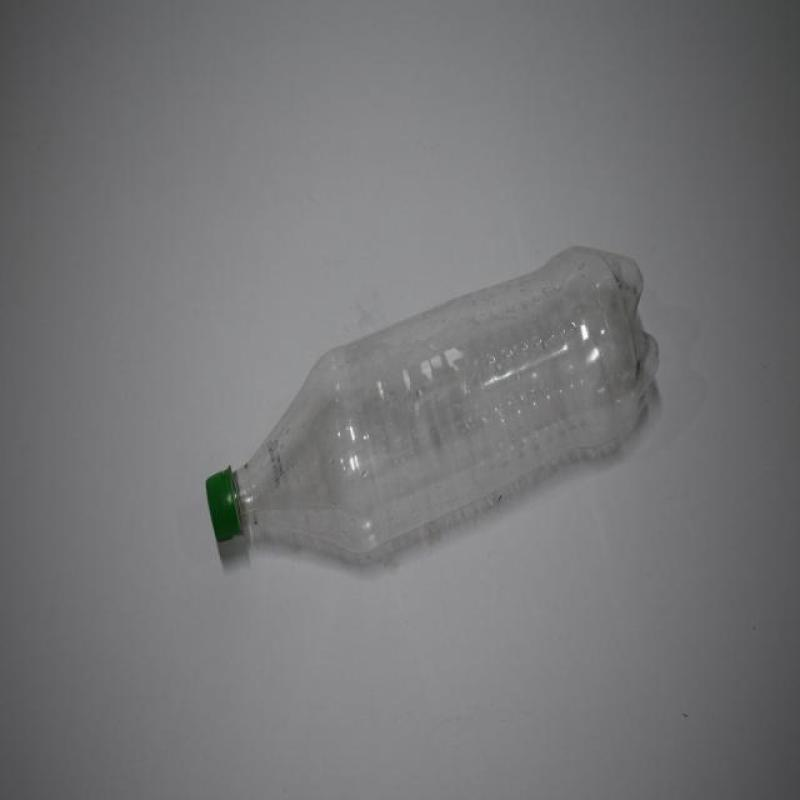botella: (205, 245, 660, 559)
